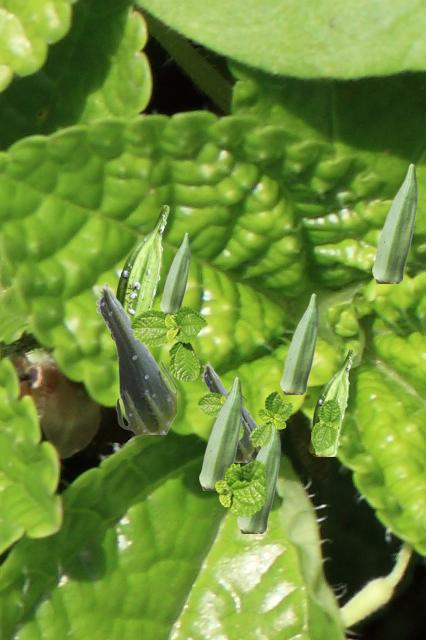okra: (95, 282, 175, 433), (111, 205, 168, 340), (372, 163, 416, 282), (201, 361, 253, 461), (199, 376, 241, 489), (309, 349, 353, 455), (237, 428, 279, 532), (280, 293, 317, 393), (160, 232, 189, 313), (227, 388, 259, 460)
